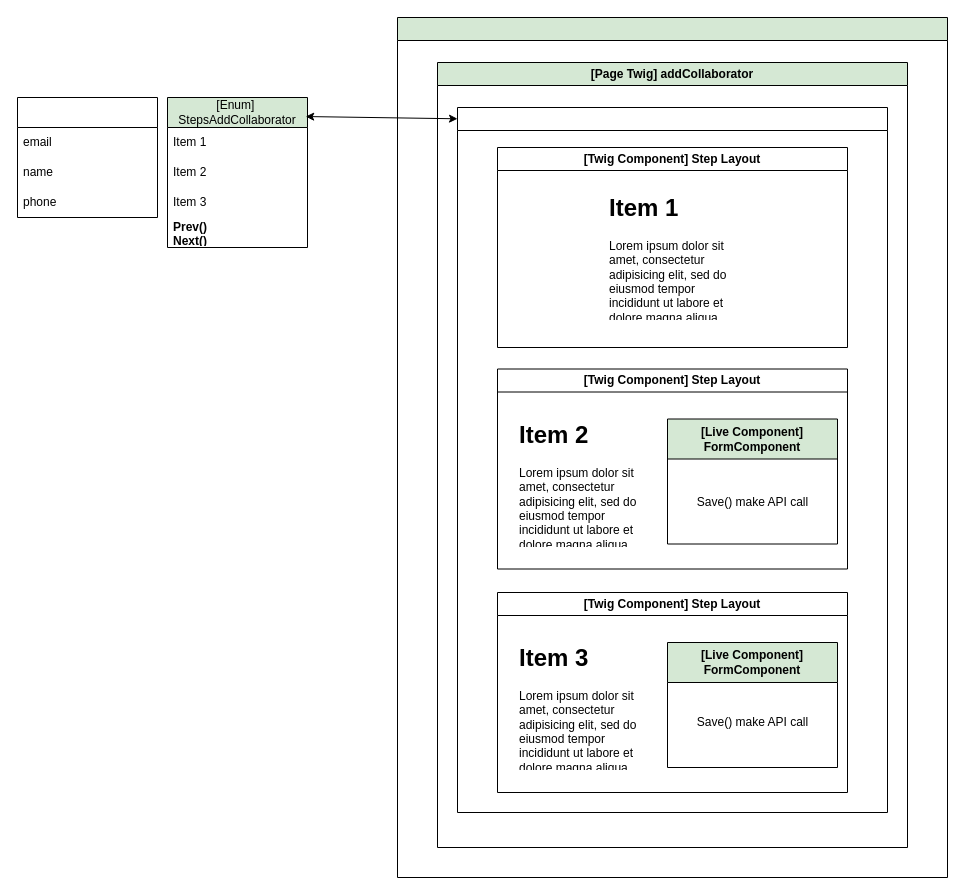
Some shapes in this 965 by 895 pixel diagram are drawn without their labels. The shapes that lost their labels are listed below. From the top down, each one's box as (x1, y1, x2, y2) in pixels, then its label:
(16, 96, 158, 218): [Model] Collab ?
(396, 16, 948, 878): AddCollaboratorController
(456, 106, 888, 812): [Live Component] StepManager
